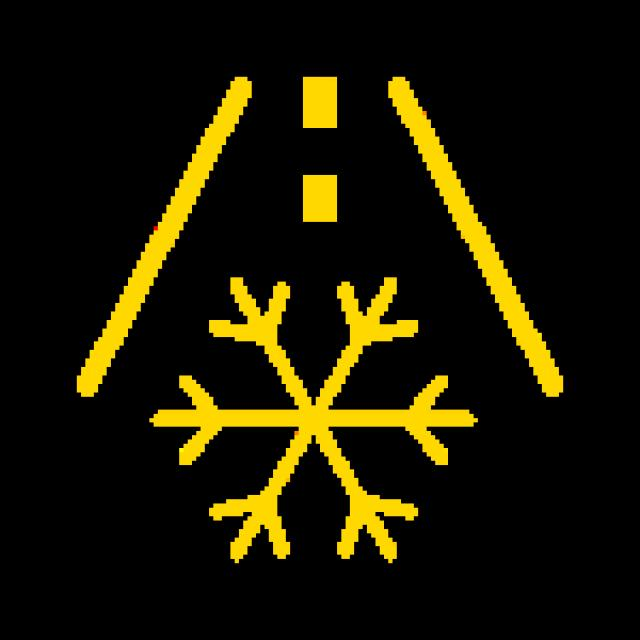kontrolka: (56, 50, 576, 531)
